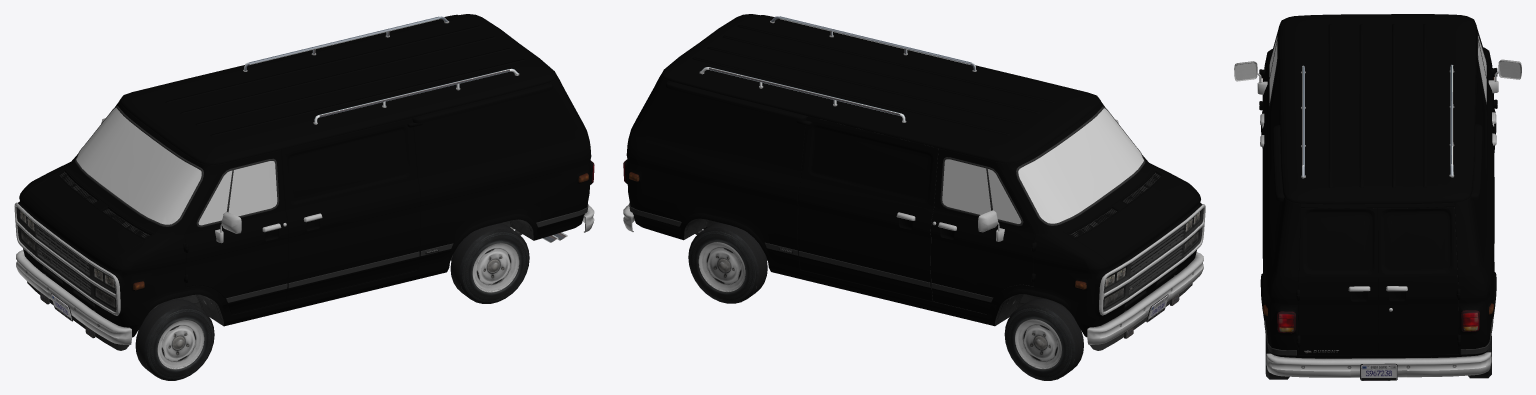
File: van.obj
The picture shows the model from 3 angles, left to right: view 1: azimuth 30°, elevation 25°; view 2: azimuth 150°, elevation 25°; view 3: azimuth 270°, elevation 25°; orthographic projection. The views are drawn at different scales.
Parts seen in each view (by area): view 1: Body_Body_0, Door_RL_Body_0, Door_FL_Body_0, Front_glass_UCB_GLASS_CLEAN_0, Hood_Body_0, Wheel_FL_RIMSTOCK_01_0, Wheel_RL_RIMSTOCK_01_0, Grill_UCB_BOTTOM_0, Glass_Door_FL_UCB_GLASS_CLEAN_0, Bumper_front_UCB_BOTTOM_0, Bottom_UCB_BOTTOM_0, Roof_rails_UCB_BOTTOM_0 (+4 smaller); view 2: Body_Body_0, Door_RR_Body_0, Door_FR_Body_0, Front_glass_UCB_GLASS_CLEAN_0, Hood_Body_0, Wheel_FR_RIMSTOCK_01_0, Wheel_RR_RIMSTOCK_01_0, Grill_UCB_BOTTOM_0, Glass_Door_FR_UCB_GLASS_CLEAN_0, Bumper_front_UCB_BOTTOM_0, Bottom_UCB_BOTTOM_0, Roof_rails_UCB_BOTTOM_0 (+4 smaller); view 3: Body_Body_0, Trunkdoor_Left_Body_0, Trunkdoor_Right_Body_0, Bumper_rear_UCB_BOTTOM_0, Detaling_Body_0, Door_RR_Body_0, Door_RL_Body_0, Roof_rails_UCB_BOTTOM_0, Numberplate_rear_Numberplates_0, Sidemirror_Left_UCB_BOTTOM_0, Sidemirror_Right_UCB_BOTTOM_0, Door_FR_Body_0 (+8 smaller).
Part boxes in pixels (x1,y1,x2,y2): Body_Body_0: [18, 14, 592, 337]; Door_RL_Body_0: [281, 117, 422, 301]; Door_FL_Body_0: [184, 150, 288, 314]; Front_glass_UCB_GLASS_CLEAN_0: [76, 107, 201, 224]; Hood_Body_0: [20, 174, 144, 271]; Wheel_FL_RIMSTOCK_01_0: [135, 299, 214, 380]; Wheel_RL_RIMSTOCK_01_0: [450, 223, 529, 303]; Grill_UCB_BOTTOM_0: [14, 202, 120, 315]; Glass_Door_FL_UCB_GLASS_CLEAN_0: [198, 161, 277, 225]; Bumper_front_UCB_BOTTOM_0: [16, 250, 131, 344]; Bottom_UCB_BOTTOM_0: [42, 172, 588, 325]; Roof_rails_UCB_BOTTOM_0: [243, 16, 519, 124]; Body_Body_0: [624, 14, 1202, 337]; Door_RR_Body_0: [796, 116, 938, 301]; Door_FR_Body_0: [930, 148, 1035, 314]; Front_glass_UCB_GLASS_CLEAN_0: [1018, 108, 1143, 223]; Hood_Body_0: [1075, 175, 1199, 271]; Wheel_FR_RIMSTOCK_01_0: [1004, 298, 1083, 380]; Wheel_RR_RIMSTOCK_01_0: [688, 222, 767, 303]; Grill_UCB_BOTTOM_0: [1099, 204, 1205, 315]; Glass_Door_FR_UCB_GLASS_CLEAN_0: [942, 159, 1021, 223]; Bumper_front_UCB_BOTTOM_0: [1087, 252, 1203, 344]; Bottom_UCB_BOTTOM_0: [629, 148, 1177, 325]; Roof_rails_UCB_BOTTOM_0: [699, 16, 976, 122]; Body_Body_0: [1260, 14, 1496, 358]; Trunkdoor_Left_Body_0: [1298, 208, 1378, 355]; Trunkdoor_Right_Body_0: [1377, 207, 1458, 354]; Bumper_rear_UCB_BOTTOM_0: [1266, 352, 1491, 380]; Detaling_Body_0: [1259, 68, 1497, 347]; Door_RR_Body_0: [1475, 55, 1494, 243]; Door_RL_Body_0: [1262, 57, 1280, 203]; Roof_rails_UCB_BOTTOM_0: [1301, 64, 1454, 178]; Numberplate_rear_Numberplates_0: [1360, 364, 1397, 380]; Sidemirror_Left_UCB_BOTTOM_0: [1234, 61, 1267, 94]; Sidemirror_Right_UCB_BOTTOM_0: [1488, 59, 1521, 93]; Door_FR_Body_0: [1476, 26, 1494, 150].
Bounding box in the file's own units: 4.9 × 2.06 × 2.35.
